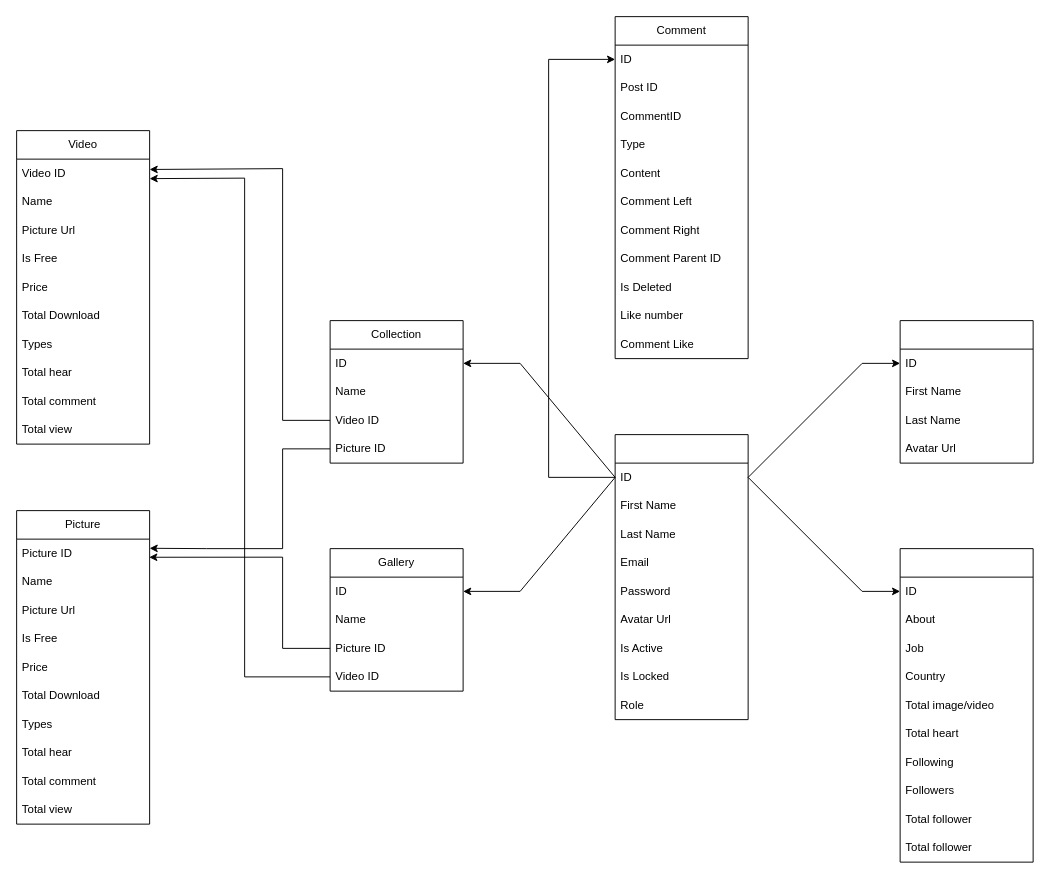
Some shapes in this 1050 by 879 pixel diagram are drawn without their labels. Each missing label, with the box of its shape:
Follow: (899, 320, 1033, 463)
Profile: (899, 548, 1033, 862)
User: (614, 434, 748, 720)
